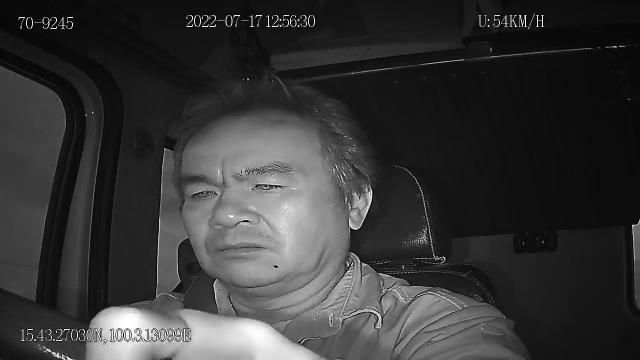SafeDriving: (243, 172, 292, 199), (182, 177, 224, 206)
Seatbelt: (180, 266, 222, 318)
